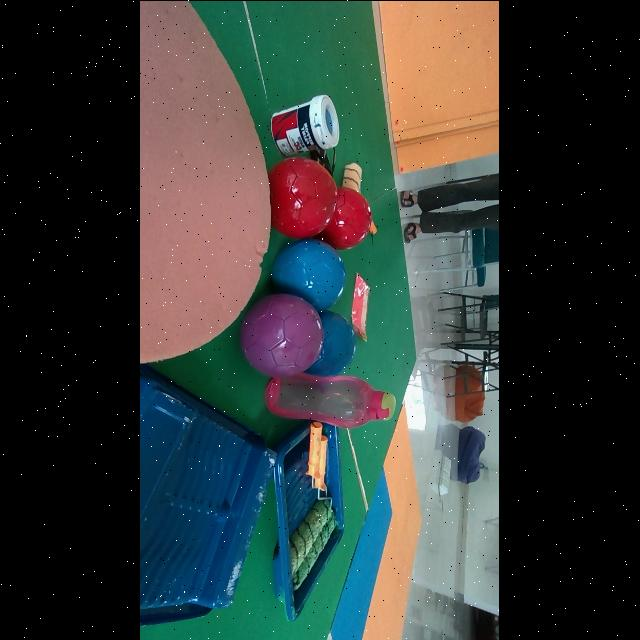B: (273, 239, 347, 310), (307, 310, 357, 376)
P: (241, 294, 324, 377)
R: (270, 156, 338, 237), (317, 186, 373, 249)
